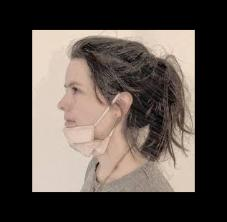mask_weared_incorrect: (57, 71, 99, 159)
